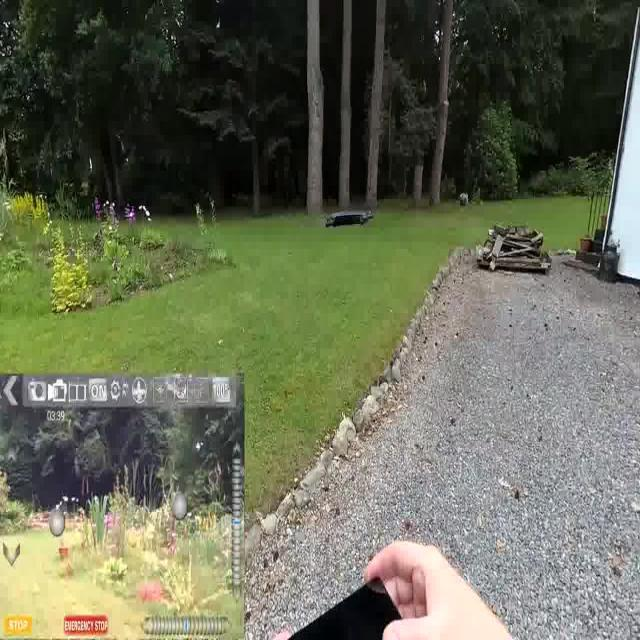drone: (322, 205, 380, 237)
